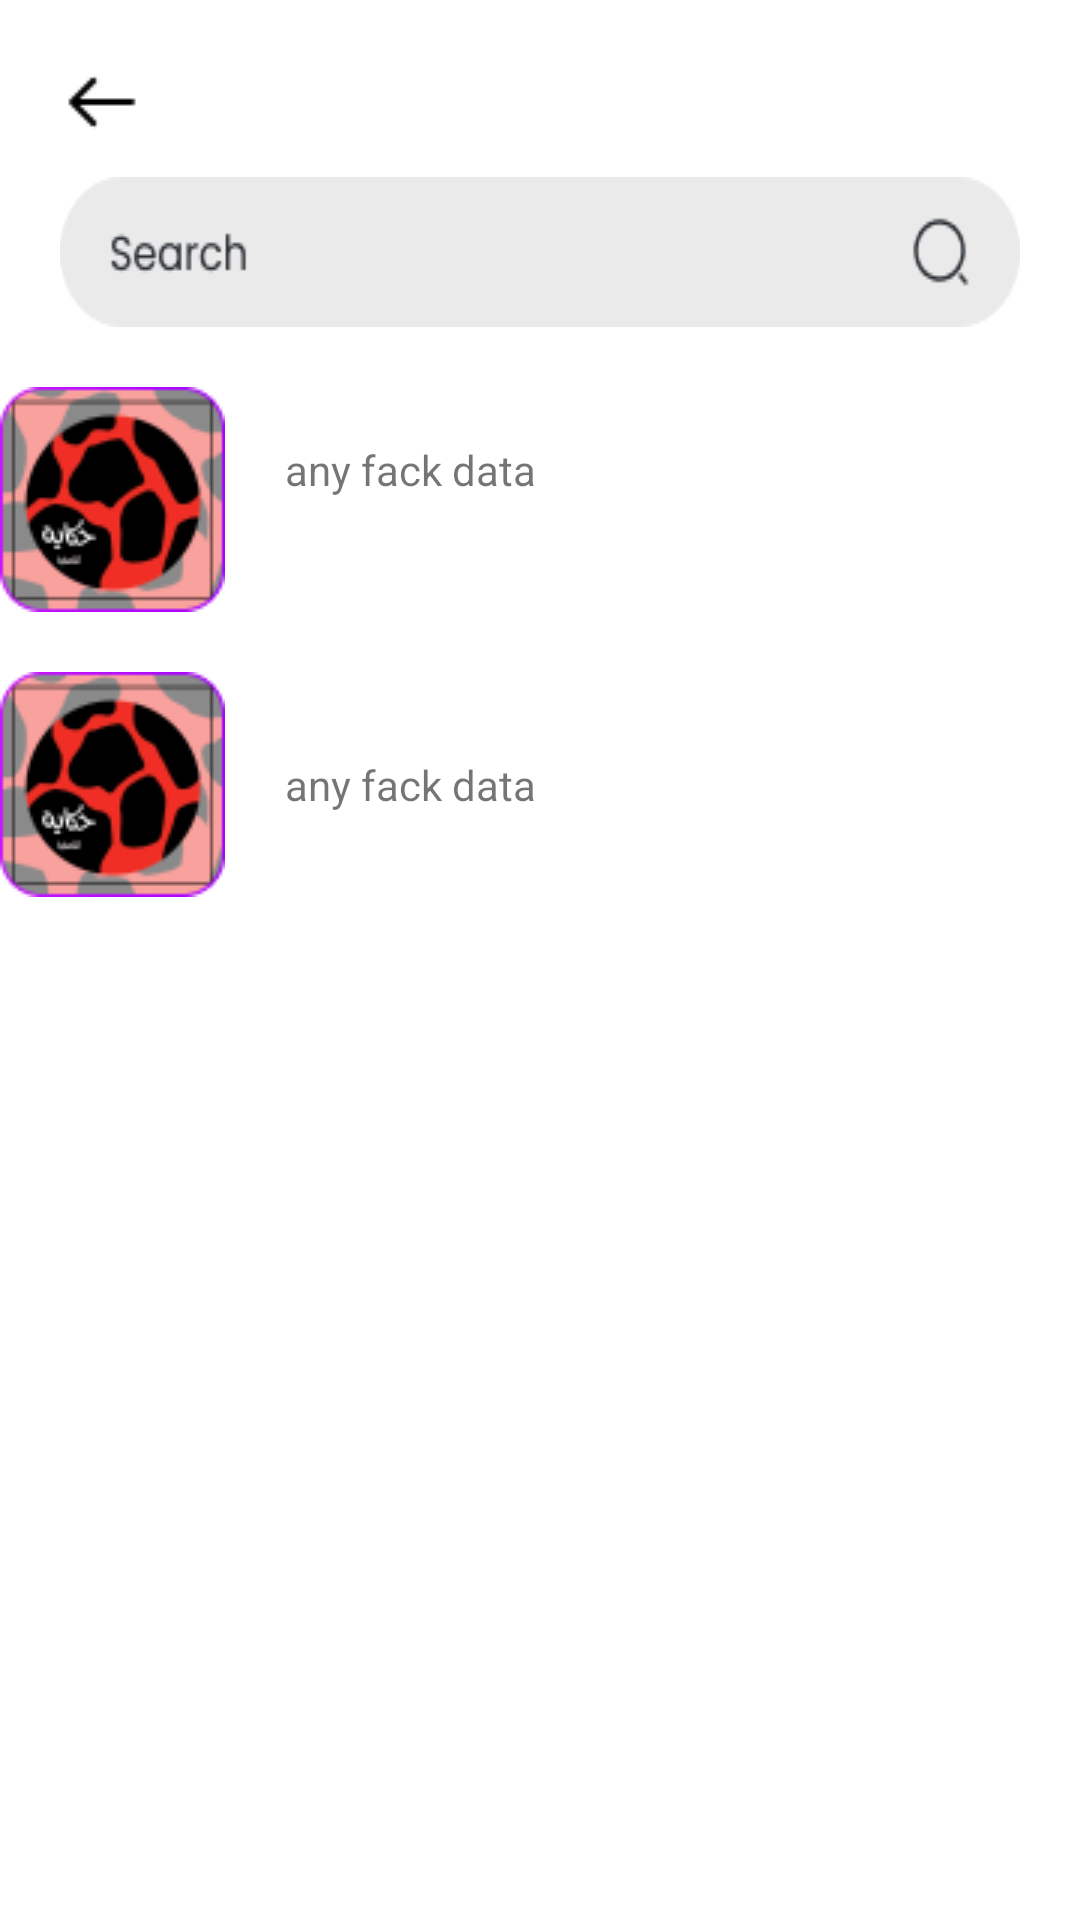

Icons on this 1080x1920 Android screen, each with its box as (x1, y1, x2, y2):
arrow: (68, 77, 136, 127)
